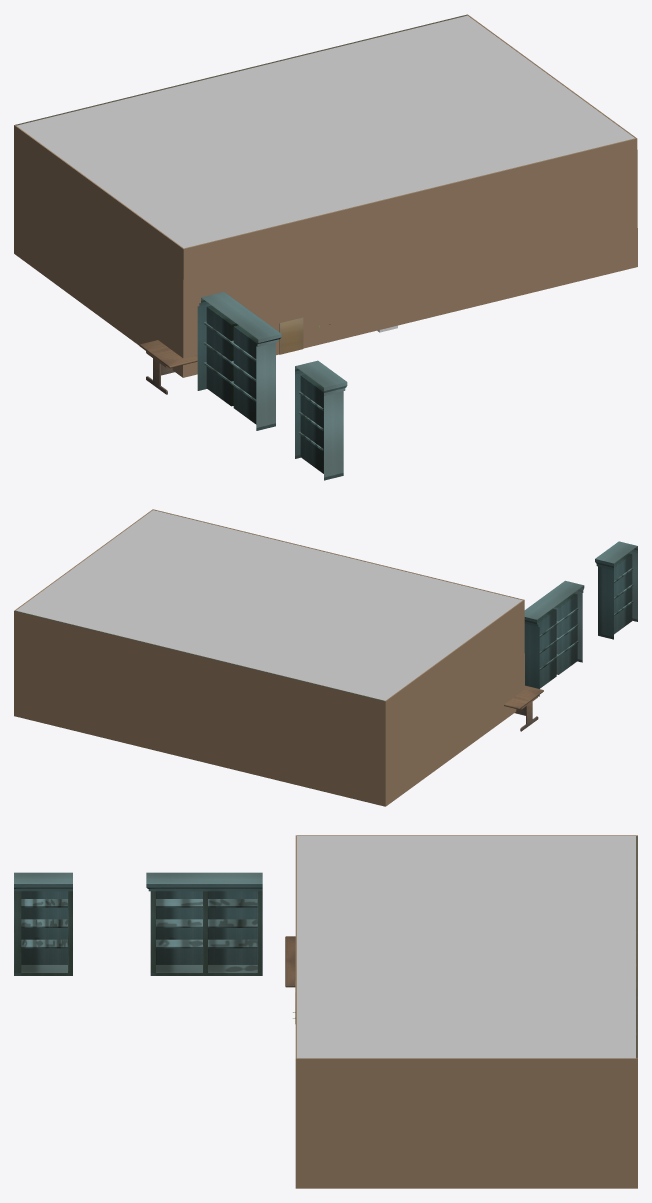
The model's file is Library room New.FBX.
3 renders of one model, top to bottom at view 1: azimuth 30°, elevation 25°; view 2: azimuth 150°, elevation 25°; view 3: azimuth 270°, elevation 25°, orthographic. The views are drawn at different scales.
Visible parts, largest first — view 1: default_1, library Roof, Rack 2, rack 3, table_long, admin table; view 2: default_1, library Roof, Rack 2, rack 3, table_long; view 3: library Roof, default_1, Rack 2, rack 3, table_long.
Part boxes in pixels (x1=…): default_1: x1=14, y1=14, x2=637, y2=377; library Roof: x1=16, y1=15, x2=634, y2=248; Rack 2: x1=197, y1=292, x2=281, y2=430; rack 3: x1=295, y1=360, x2=347, y2=480; table_long: x1=139, y1=340, x2=197, y2=394; admin table: x1=279, y1=317, x2=303, y2=354; default_1: x1=14, y1=509, x2=524, y2=806; library Roof: x1=16, y1=510, x2=522, y2=700; Rack 2: x1=524, y1=580, x2=584, y2=696; rack 3: x1=595, y1=541, x2=637, y2=639; table_long: x1=504, y1=685, x2=543, y2=731; library Roof: x1=297, y1=836, x2=635, y2=1058; default_1: x1=295, y1=835, x2=637, y2=1188; Rack 2: x1=146, y1=872, x2=262, y2=975; rack 3: x1=14, y1=872, x2=72, y2=975; table_long: x1=285, y1=936, x2=295, y2=987.
Bounding box in the file's own units: 13.02 × 3.73 × 14.72.
